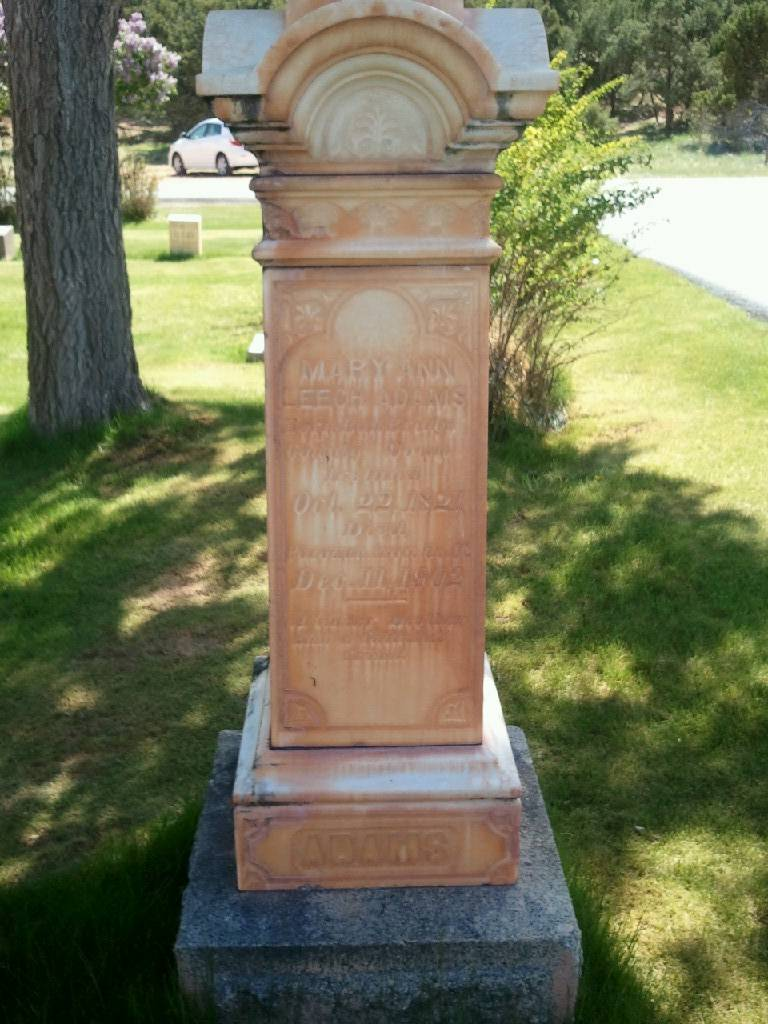obelisk: (176, 4, 621, 1015)
